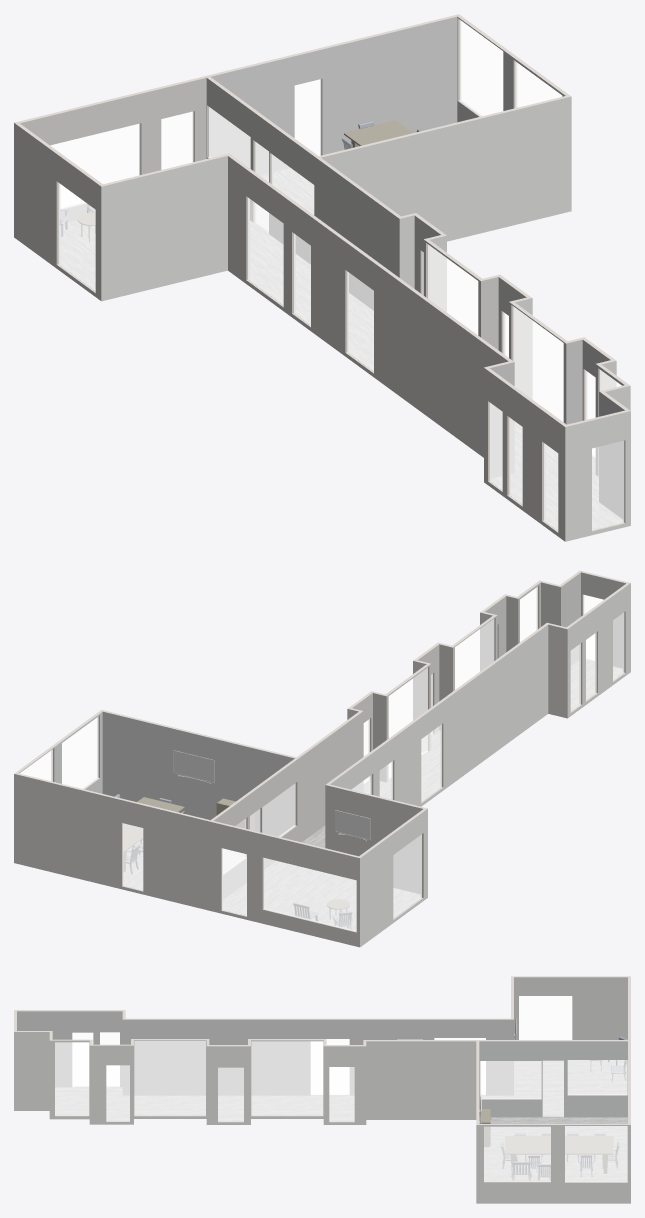
File: Corridor_230-234_room_231.glb
The picture shows the model from 3 angles, top to bottom: view 1: azimuth 30°, elevation 25°; view 2: azimuth 150°, elevation 25°; view 3: azimuth 270°, elevation 25°; orthographic projection. The views are drawn at different scales.
Visible parts, largest first — view 1: wall_22, wall_7, wall_60, wall_0, wall_48, wall_1, floor_Other, wall_9, wall_62, wall_6, wall_72, door_10 (+52 smaller); view 2: wall_17, wall_22, wall_40, wall_11, floor_Living_Room, window_4, wall_26, window_9, wall_62, wall_1, wall_9, wall_72 (+49 smaller); view 3: wall_70, wall_18, floor_Other, wall_23, door_3, door_10, door_27, door_20, wall_2, floor_Dining_Room, wall_28, floor_Living_Room (+33 smaller).
Part boxes in pixels (box(x1,y1,x2,y2)): wall_22: box(228, 156, 508, 457); wall_7: box(321, 96, 571, 241); wall_60: box(210, 16, 457, 175); wall_0: box(101, 156, 227, 301); wall_48: box(20, 78, 206, 221); wall_1: box(14, 123, 101, 300); floor_Other: box(249, 252, 623, 530); wall_9: box(484, 368, 565, 541); wall_62: box(316, 158, 399, 310); wall_6: box(565, 411, 630, 541); wall_72: box(206, 78, 316, 264); door_10: box(513, 307, 563, 421); wall_17: box(14, 774, 210, 910); wall_22: box(330, 625, 548, 806); wall_40: box(102, 711, 294, 836); wall_11: box(210, 822, 359, 947); floor_Living_Room: box(223, 861, 421, 930); window_4: box(264, 858, 356, 931); wall_26: box(325, 785, 422, 893); window_9: box(264, 858, 356, 930); wall_62: box(298, 711, 363, 842); wall_1: box(360, 809, 427, 947); wall_9: box(567, 583, 630, 717); wall_72: box(214, 759, 298, 899); wall_70: box(122, 1019, 513, 1095); wall_18: box(366, 1041, 476, 1119); floor_Other: box(55, 1087, 511, 1121); wall_23: box(479, 1041, 627, 1117); door_3: box(251, 1041, 322, 1115); door_10: box(134, 1041, 205, 1115); door_27: box(134, 1041, 205, 1115); door_20: box(251, 1041, 322, 1115); wall_2: box(476, 1125, 630, 1203); floor_Dining_Room: box(484, 1116, 627, 1181); wall_28: box(514, 977, 627, 1039); floor_Living_Room: box(512, 1060, 627, 1116).
Size of the model in its own units: 12.07 by 2.97 by 21.12.
76 materials, 3 textured.
